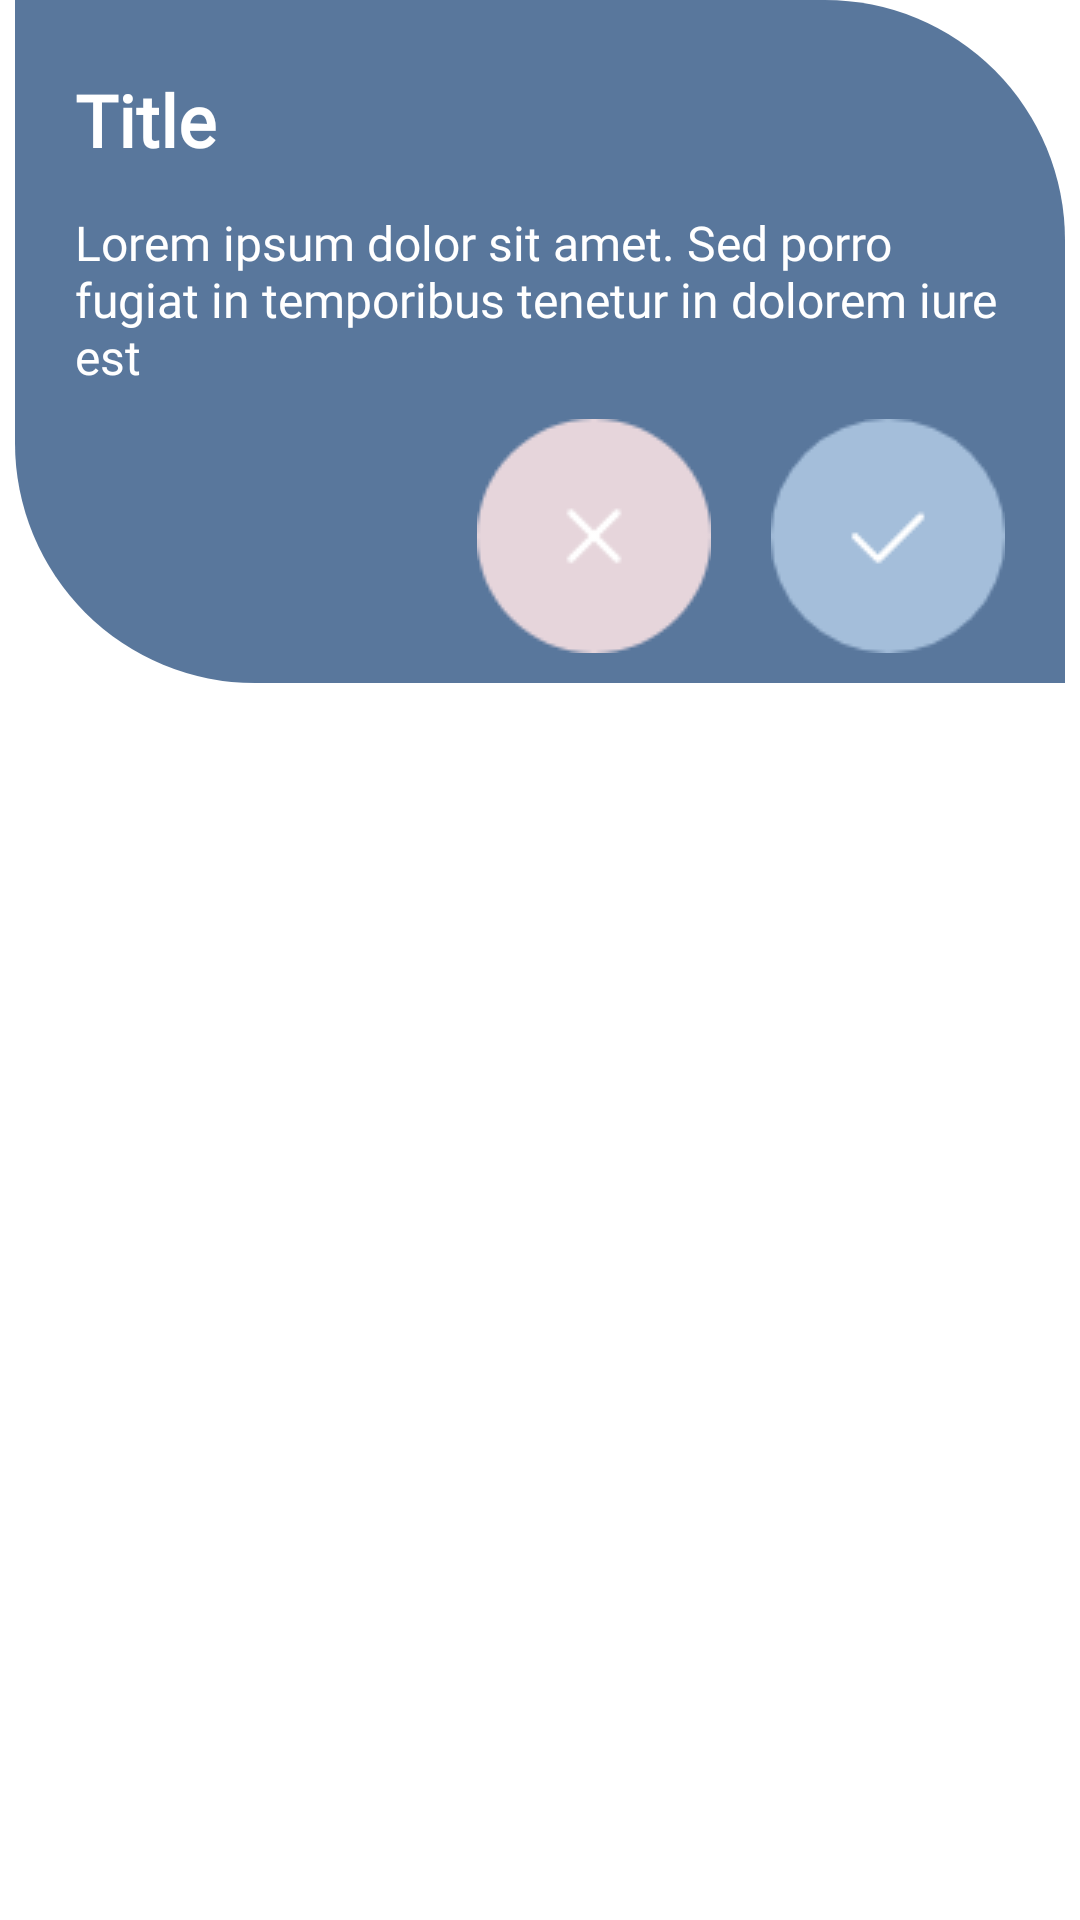

Locate icon controls on the screen. Image size 1080 x 1920, boxes as box(x1, y1, x2, y2).
cancel popup: box(477, 419, 711, 653)
confirm popup: box(771, 419, 1005, 653)
